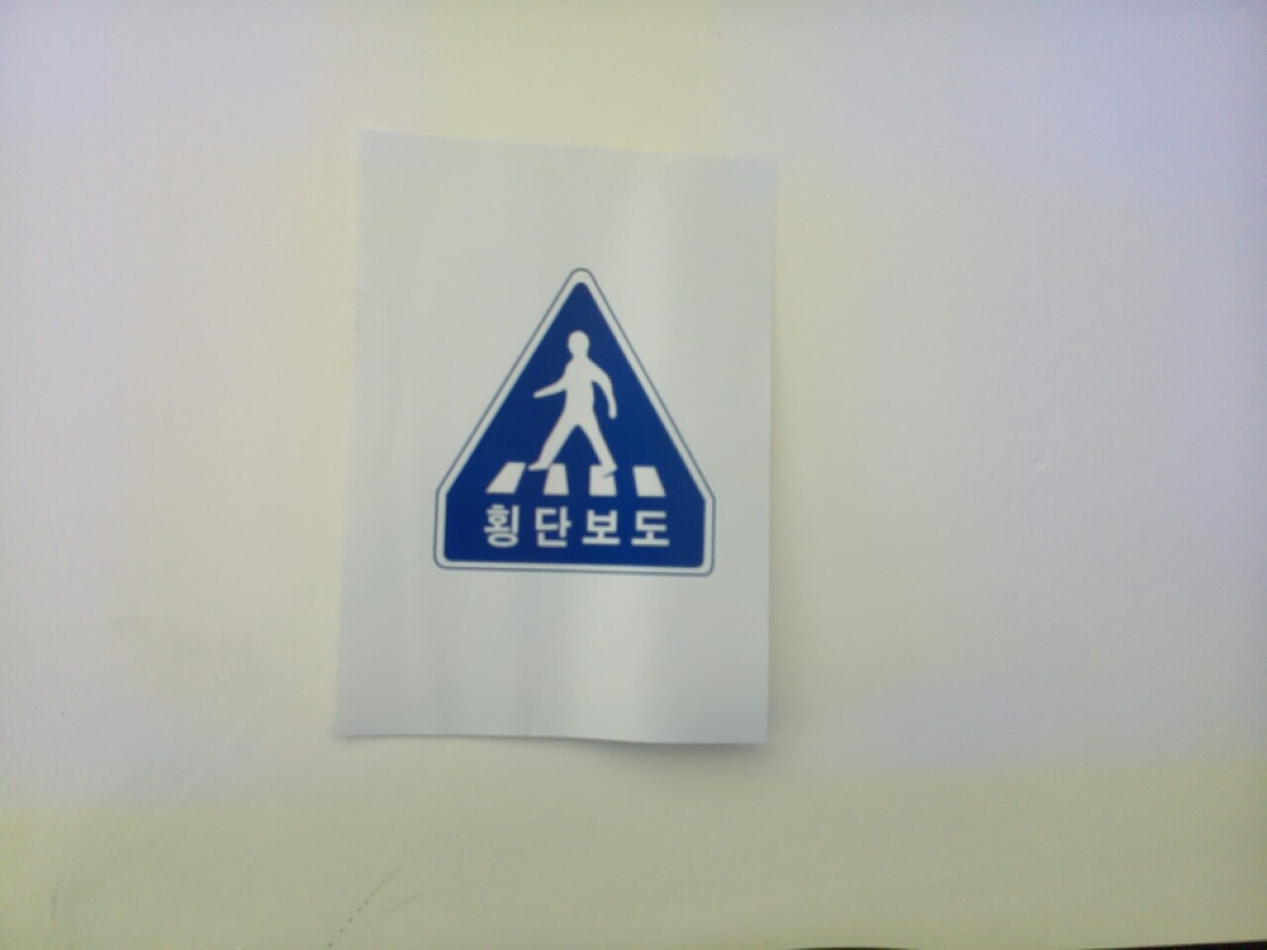crosswalk: (435, 273, 715, 577)
